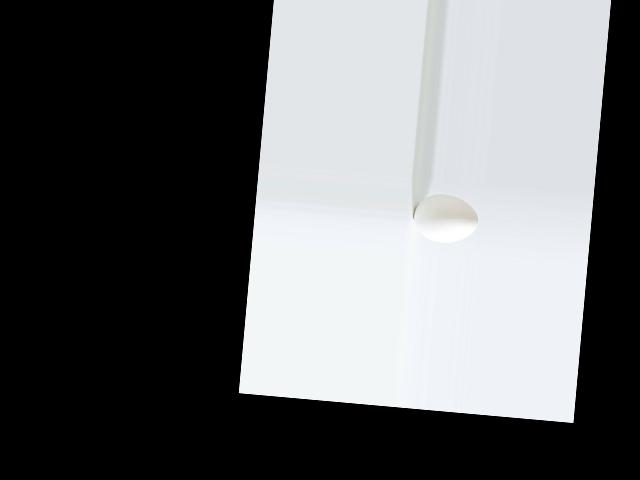egg: (411, 192, 480, 245)
